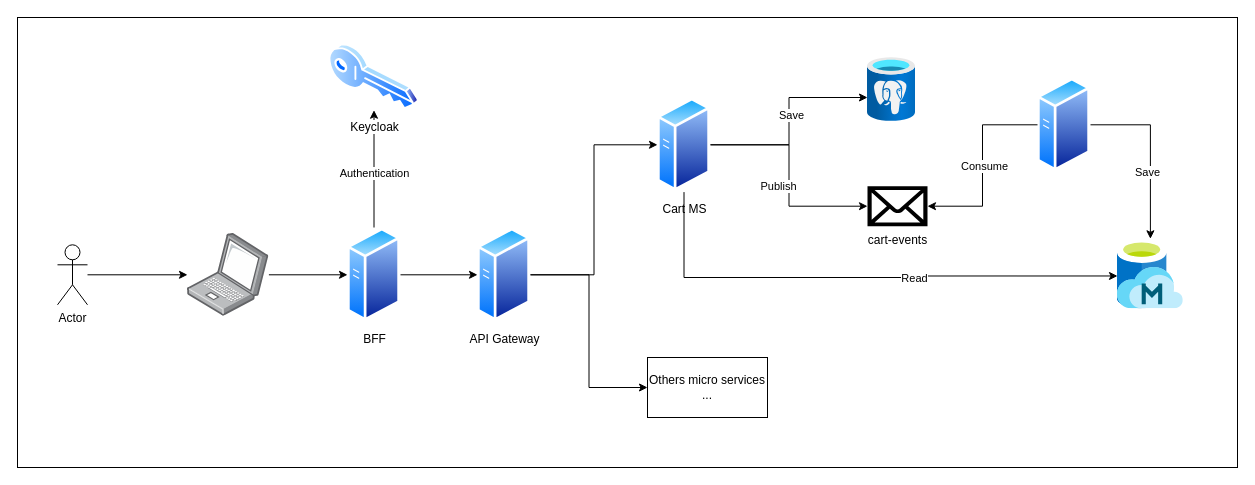
Some shapes in this 1255 by 485 pixel diagram are drawn without their labels. The centre of each missing label's shape, as x and y in pixels:
"Cart Projection MS" goes at point 1063,124.
"Font-end" goes at point 227,274.
"Read Cart DB" goes at point 1150,273.
"Write Cart DB" goes at point 891,89.
